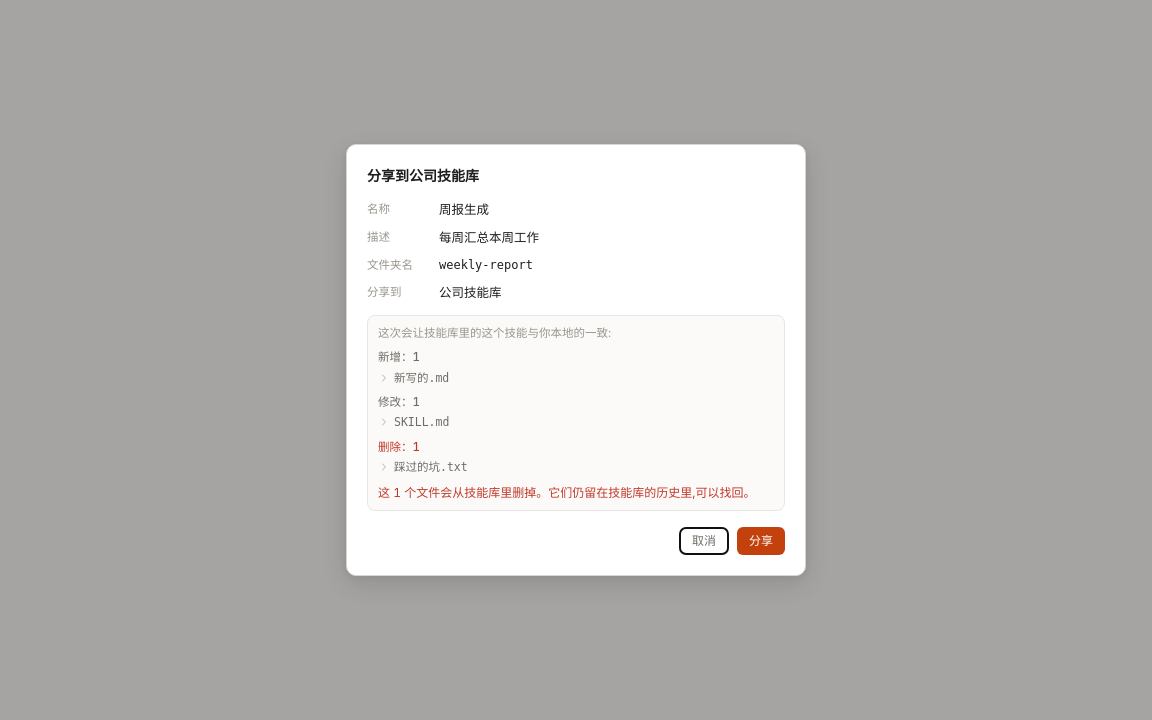
Test: 🔴 v8 任务 10 / Q20:清单里的文件就地展开看内容 › 再点一次收起
Expected: the text "周报生成" is shown, [439, 202, 489, 217]
Click the button "SKILL.md" at x=422, y=422, box [378, 413, 770, 432]
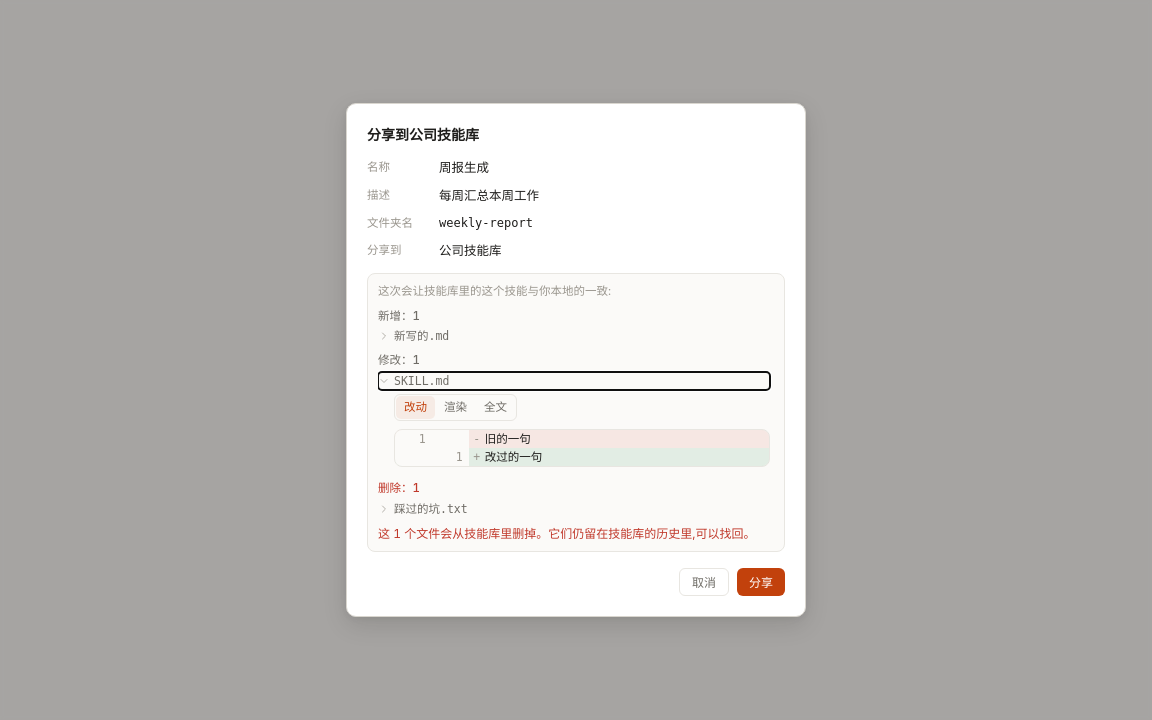
Expected: the button "SKILL.md" is expanded
Click the button "SKILL.md" at x=422, y=381, box [378, 372, 770, 390]
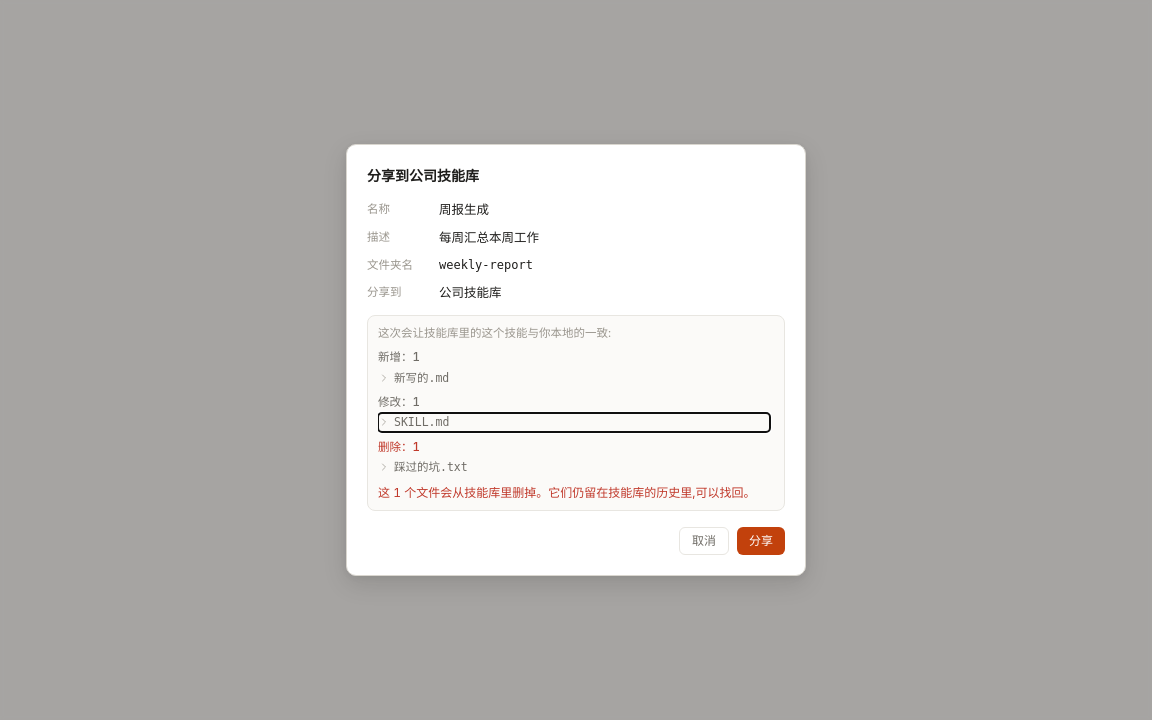
Expected: the button "SKILL.md" is collapsed, [378, 413, 770, 432]
Expected: the text "改过的一句" is gone
